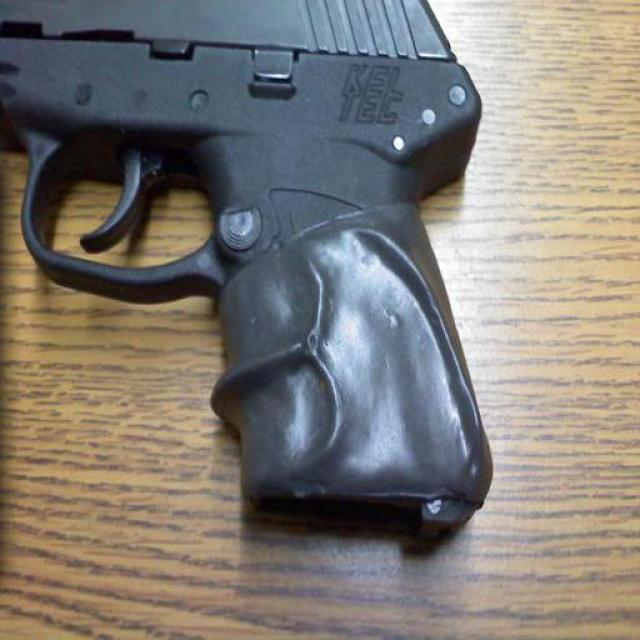pistol: (1, 1, 493, 542)
